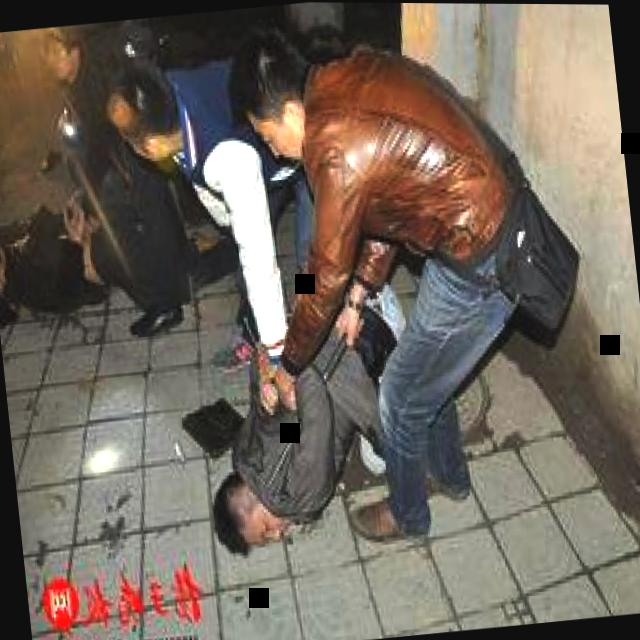Fall-Detected: (180, 257, 428, 584)
